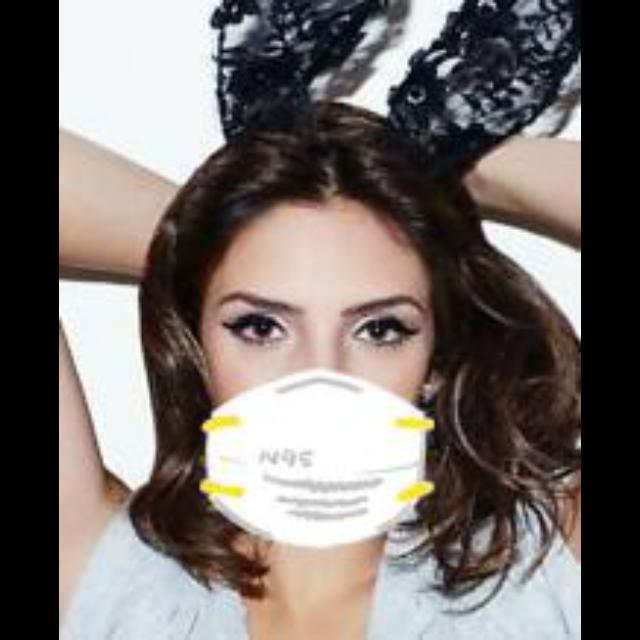suspicion: (149, 132, 501, 562)
